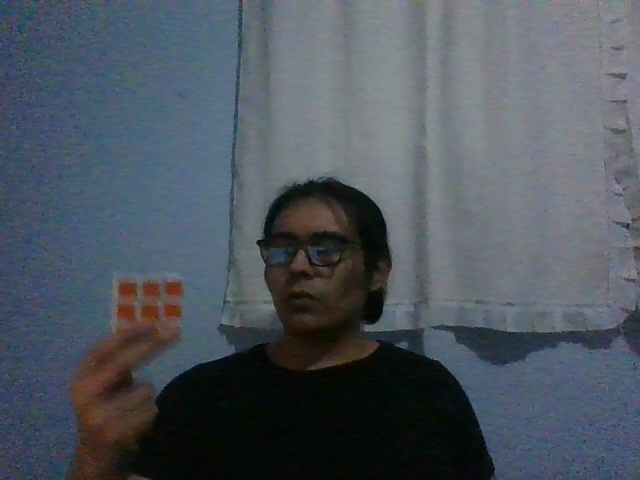rubik: (111, 274, 185, 348)
